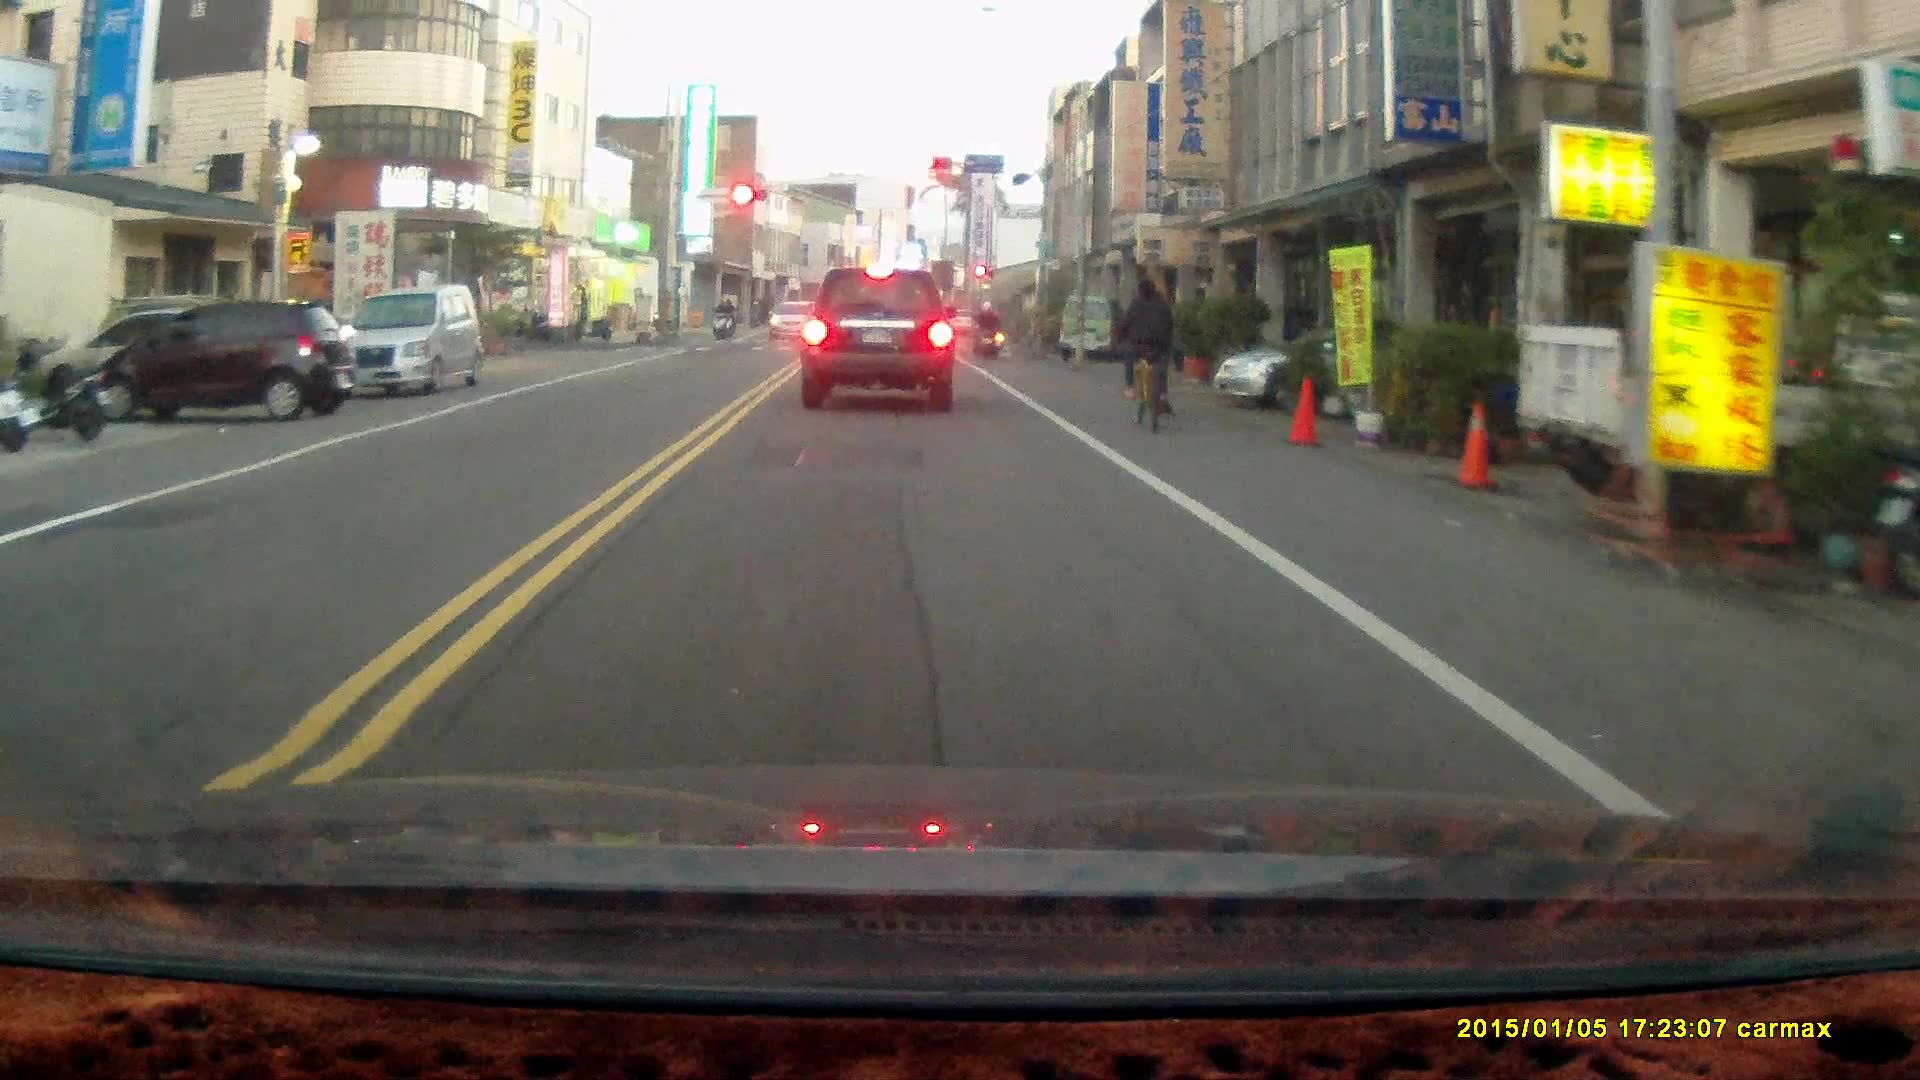rider: (1117, 275, 1176, 433), (971, 296, 1002, 360), (709, 294, 732, 340)
vehicle: (86, 296, 363, 426), (798, 265, 960, 415), (1214, 318, 1470, 409), (331, 282, 483, 399)
